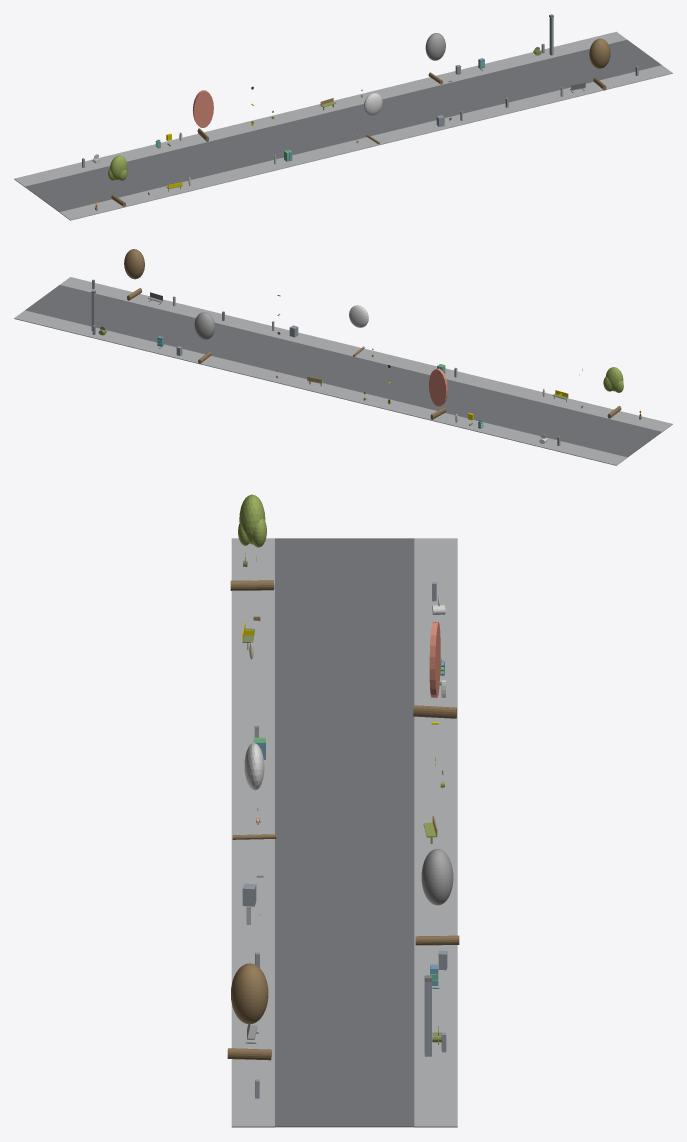
3 renders of one model, top to bottom at view 1: azimuth 30°, elevation 25°; view 2: azimuth 150°, elevation 25°; view 3: azimuth 270°, elevation 25°, orthographic. The views are drawn at different scales.
Visible parts, largest first — view 1: road_slab, sidewalk_left, sidewalk_right, inst_0013, inst_0016, inst_0015, inst_0012, inst_0014; view 2: road_slab, sidewalk_right, sidewalk_left, inst_0013, inst_0016, inst_0015, inst_0012, inst_0014; view 3: road_slab, sidewalk_right, sidewalk_left, inst_0016, inst_0015, inst_0012, inst_0013, inst_0014.
Part boxes in pixels (x1,y1,x2,y2): road_slab: [25, 39, 661, 212]; sidewalk_left: [59, 65, 672, 220]; sidewalk_right: [14, 31, 626, 186]; inst_0013: [192, 90, 213, 141]; inst_0016: [589, 38, 610, 90]; inst_0015: [425, 33, 445, 84]; inst_0012: [108, 155, 127, 206]; inst_0014: [363, 93, 382, 144]; road_slab: [25, 285, 661, 457]; sidewalk_right: [14, 310, 627, 465]; sidewalk_left: [60, 277, 672, 432]; inst_0013: [429, 368, 447, 419]; inst_0016: [124, 249, 144, 300]; inst_0015: [194, 312, 214, 363]; inst_0012: [603, 367, 623, 418]; inst_0014: [349, 305, 368, 356]; road_slab: [275, 538, 414, 1127]; sidewalk_right: [414, 538, 457, 1127]; sidewalk_left: [231, 538, 274, 1127]; inst_0016: [227, 963, 271, 1060]; inst_0015: [415, 849, 459, 945]; inst_0012: [230, 494, 274, 590]; inst_0013: [413, 622, 456, 718]; inst_0014: [232, 743, 276, 839].
Size of the model in its own units: 80 by 6.08 by 13.32.
